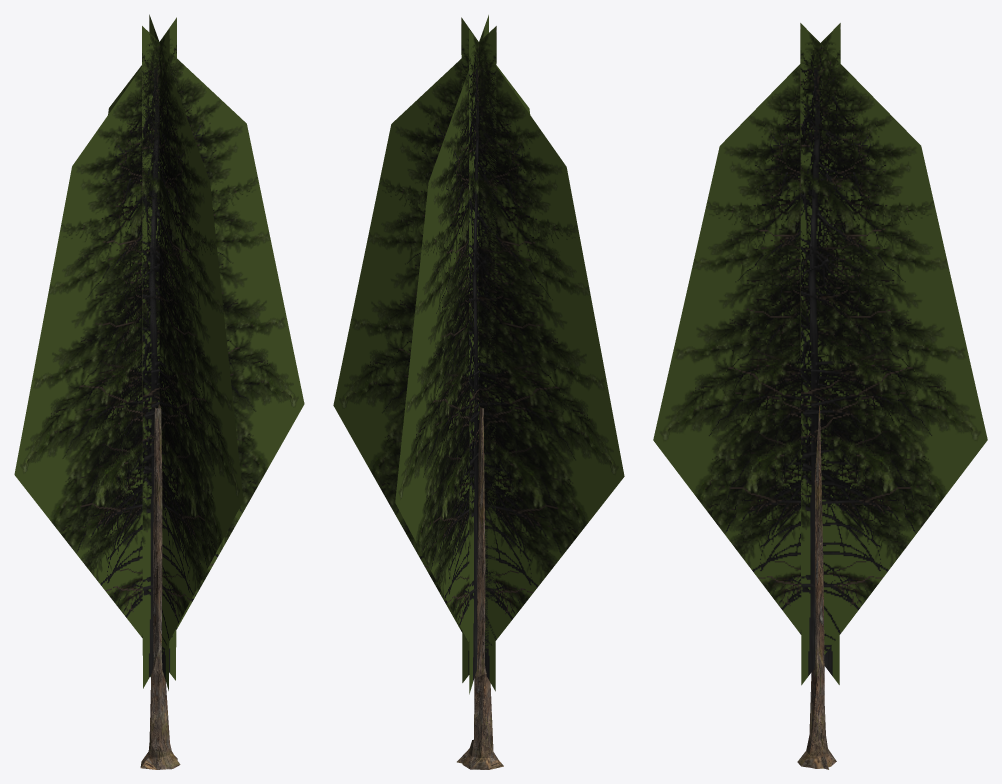
The model's file is spruce_2_lod.dae.
3 views of the same model, side by side, from view 1: azimuth 30°, elevation 25°; view 2: azimuth 150°, elevation 25°; view 3: azimuth 270°, elevation 25° (orthographic).
Parts seen in each view (by area): view 1: Mesh_Object; view 2: Mesh_Object; view 3: Mesh_Object.
Boxes of the visible parts, x1,y1,x2,y2 form: Mesh_Object: (14,14,304,769); Mesh_Object: (333,15,624,769); Mesh_Object: (653,23,987,769).
Bounding box in the file's own units: 6.18 × 15.06 × 6.18.
